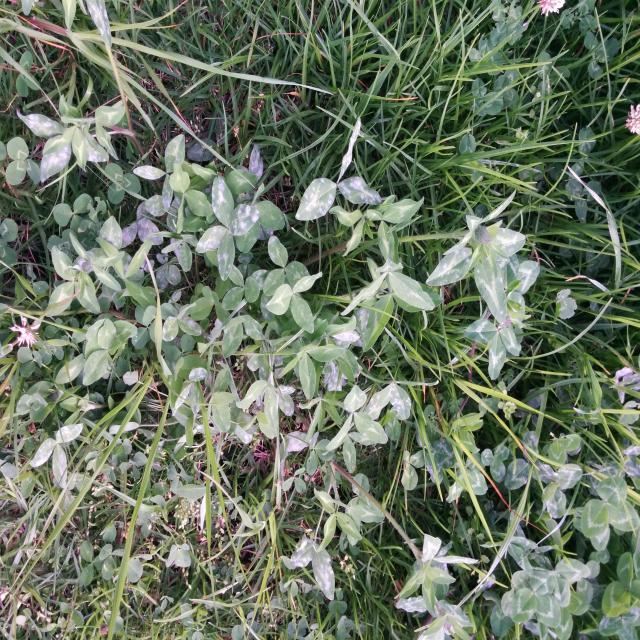Four Leaf Clover: (196, 176, 258, 281)
